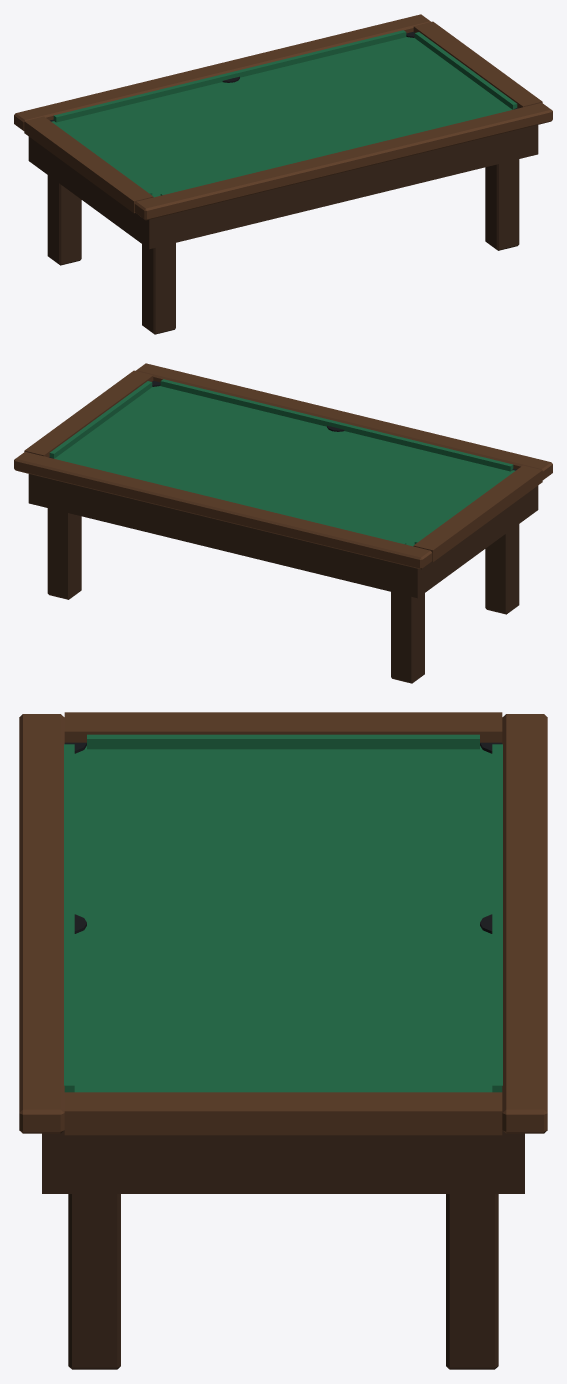
Rendered from pool_table.glb.
3 views of the same model, one above another, from view 1: azimuth 30°, elevation 25°; view 2: azimuth 150°, elevation 25°; view 3: azimuth 270°, elevation 25° (orthographic). The views are drawn at different scales.
Visible parts, largest first — view 1: pool_table; view 2: pool_table; view 3: pool_table.
Part boxes in pixels (<box>): pool_table: <box>14,14,552,334</box>; pool_table: <box>14,363,552,683</box>; pool_table: <box>19,712,547,1369</box>.
Bounding box in the file's own units: 2.5 × 0.82 × 1.4.
